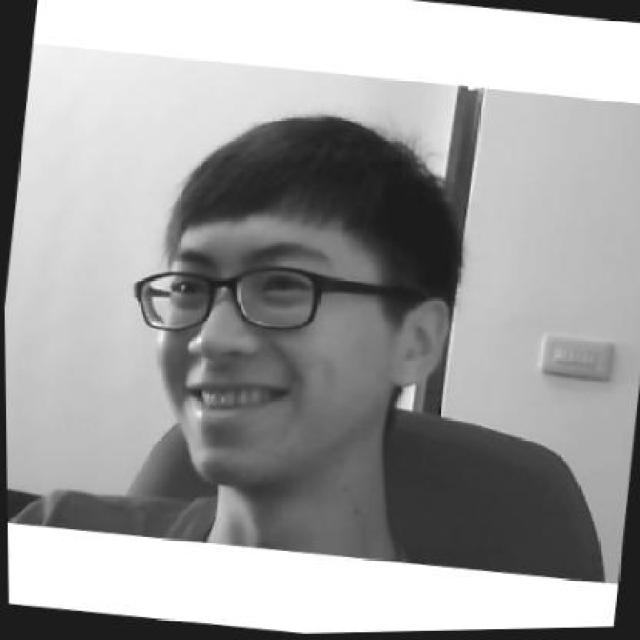attentif: (108, 93, 472, 510)
